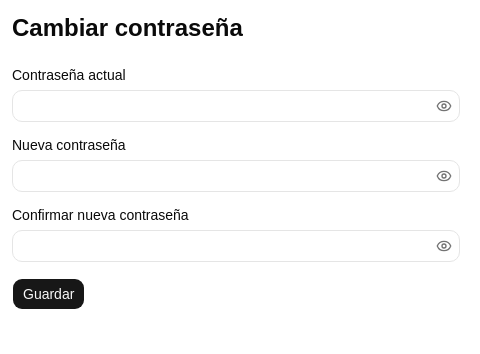
Scenario: ChangePasswordPage › shows validation error when passwords do not match
In the password field labelled "Contraseña actual": (236, 106) [12,90,460,122], type "oldpass123"
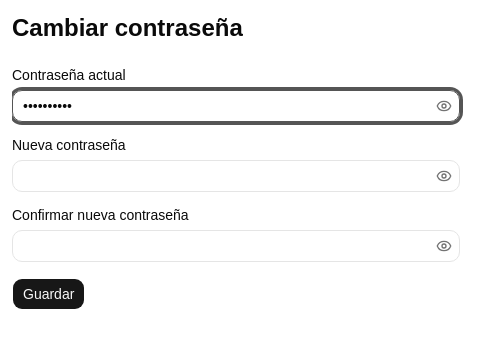
In the password field labelled "Nueva contraseña": (236, 176) [12,160,460,192], type "newpass123"
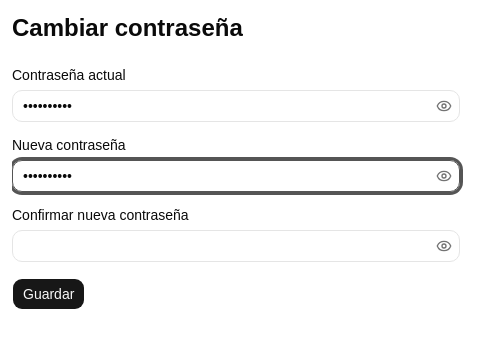
In the password field labelled "Confirmar nueva contraseña": (236, 246) [12,230,460,262], type "different1"
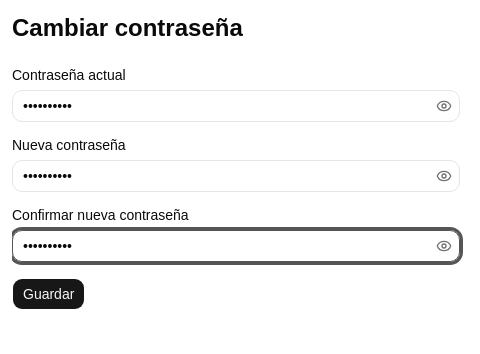
Click the button "Guardar": (49, 294) [12,278,85,310]
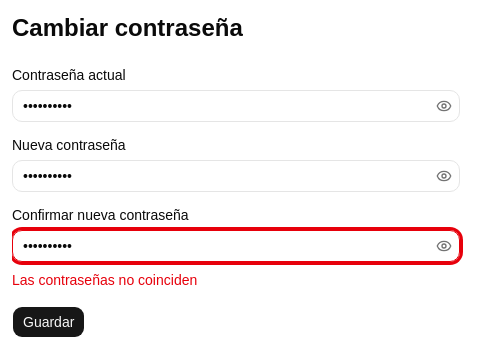
Check: the text "Las contraseñas no coinciden" is shown, box [12,272,197,288]
